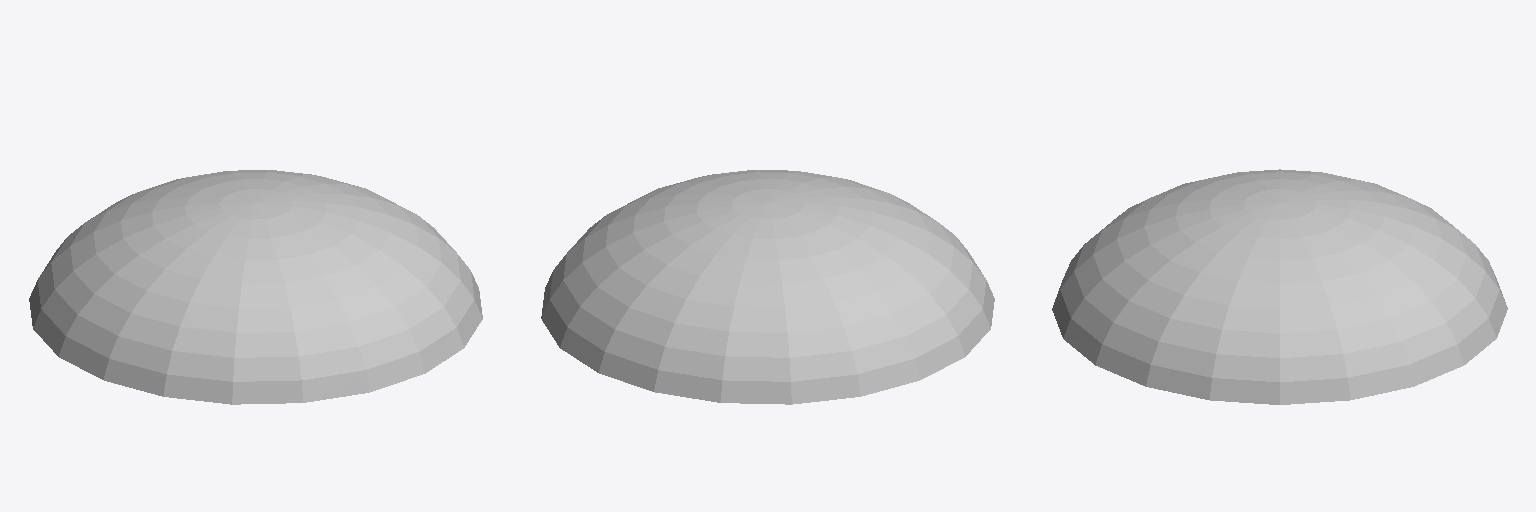
The model's file is light dome.obj.
The picture shows the model from 3 angles: view 1: azimuth 30°, elevation 25°; view 2: azimuth 150°, elevation 25°; view 3: azimuth 270°, elevation 25°; orthographic projection.
Visible parts, largest first — view 1: light_dome; view 2: light_dome; view 3: light_dome.
Part boxes in pixels (x1,y1,x2,y2): light_dome: (29, 170, 482, 404); light_dome: (541, 170, 994, 404); light_dome: (1052, 169, 1507, 404).
Bounding box in the file's own units: 4.94 × 1.27 × 4.94.